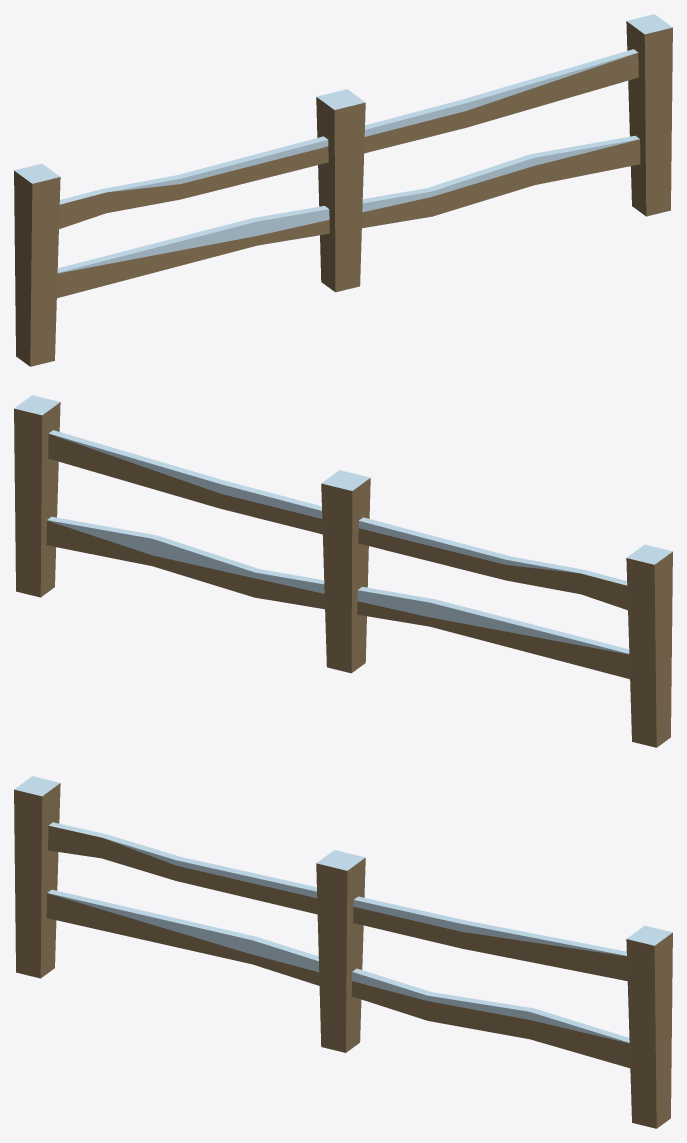
File: model_polytope_snow_fence_gate_straight.fbx
3 views of the same model, one above another, from view 1: azimuth 30°, elevation 25°; view 2: azimuth 150°, elevation 25°; view 3: azimuth 330°, elevation 25° (orthographic).
Visible parts, largest first — view 1: model_polytope_snow_fence_gate_straight; view 2: model_polytope_snow_fence_gate_straight; view 3: model_polytope_snow_fence_gate_straight.
Boxes of the visible parts, box(x1,y1,x2,y2) form: model_polytope_snow_fence_gate_straight: box(14, 14, 672, 366); model_polytope_snow_fence_gate_straight: box(14, 395, 672, 747); model_polytope_snow_fence_gate_straight: box(14, 776, 672, 1128).
Size of the model in its own units: 349 by 96.16 by 17.34.
Materials: 1 (1 with a texture image).
